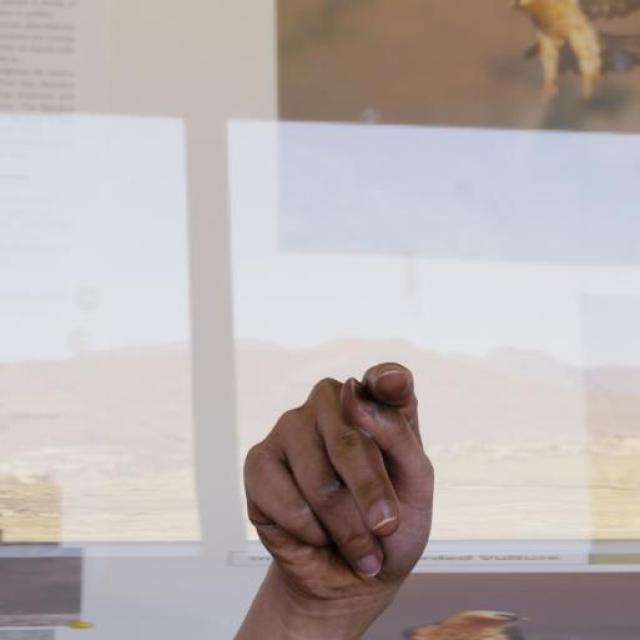P: (198, 337, 480, 640)
